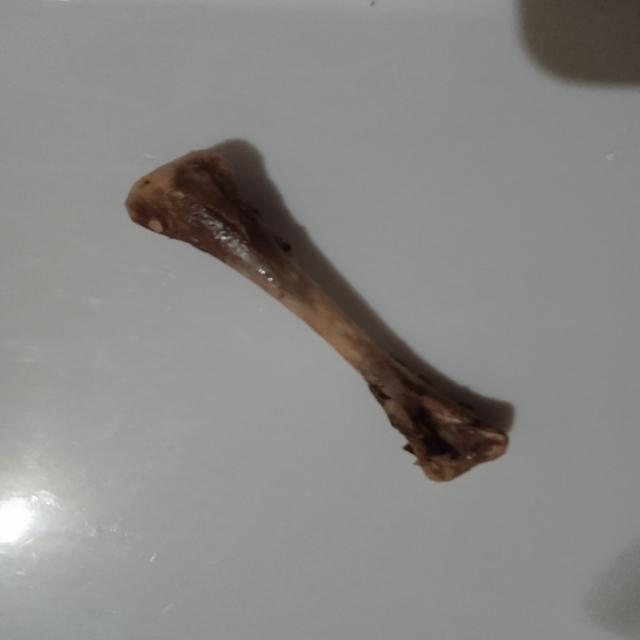bone: (106, 138, 532, 499)
